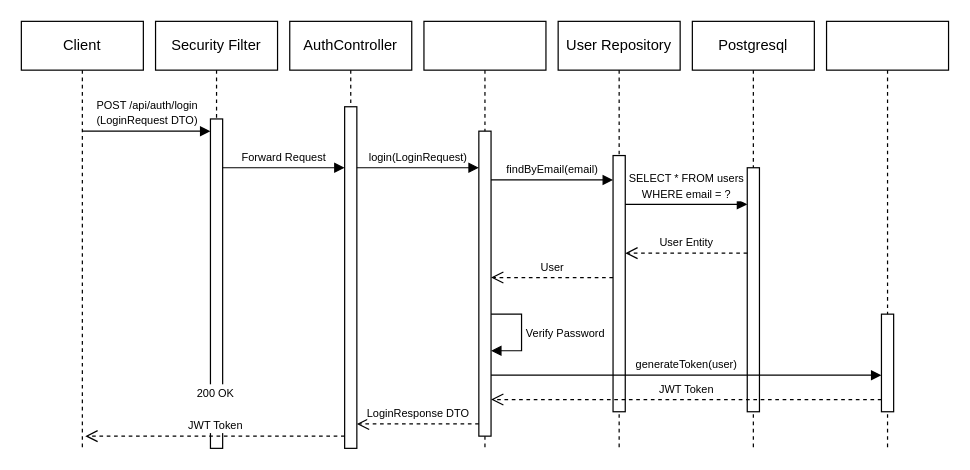
The diagram is 970 pixels wide and 470 high, and some of its shapes have lost their labels. The shapes that lost their labels are listed below. From the top down, each one's box as (x1, y1, x2, y2) in pixels, then its label:
(423, 20, 546, 448): AuthService
(825, 20, 949, 448): JWT Service
